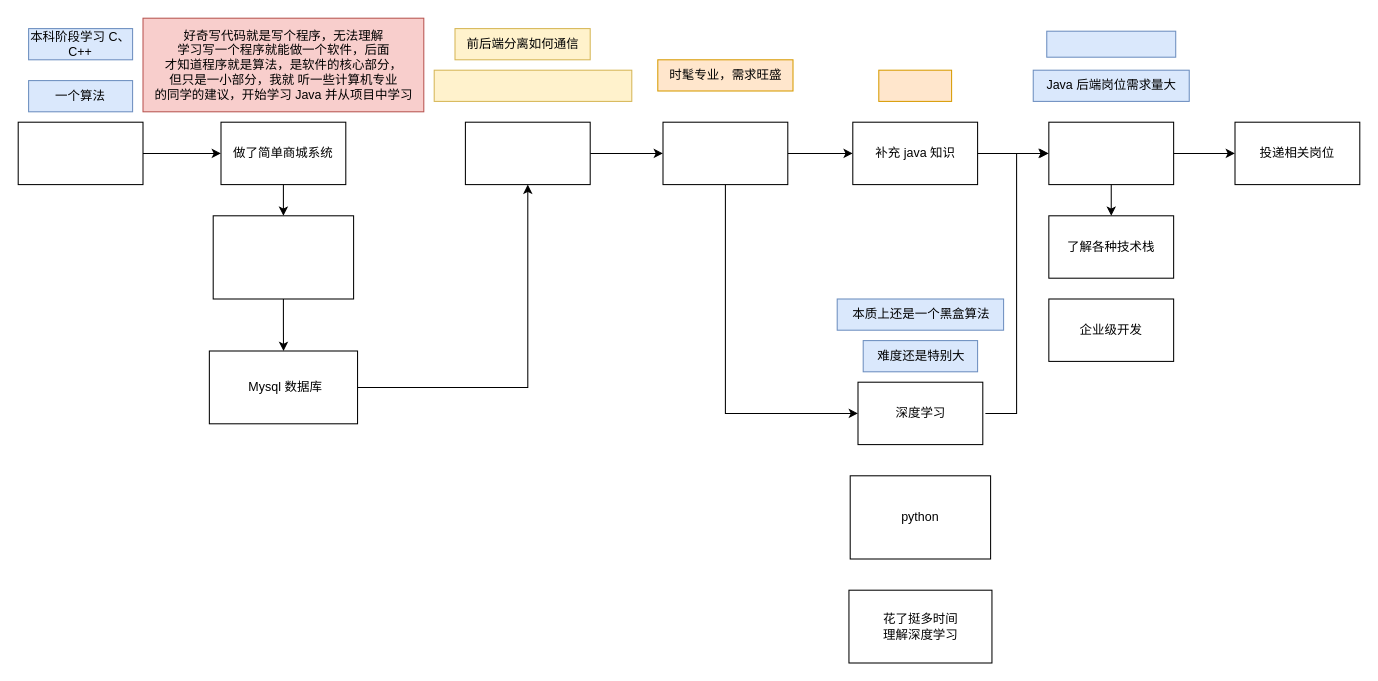
The diagram is 1378 pixels wide and 681 high, and some of its shapes have lost their labels. Each missing label, with the centre of its shape:
"Java 后端相关实习" belongs at [1111,153].
"Spring 生态十分丰富" belongs at [1111,43].
"前后端分离" belongs at [283,257].
"基于兴趣" belongs at [915,85].
"大学里学习计算机基础" belongs at [80,153].
"学习操作系统和计算机网络" belongs at [527,153].
"用 mybatis 就能操作内存的数据" belongs at [532,85].
"考研上岸" belongs at [725,153].
